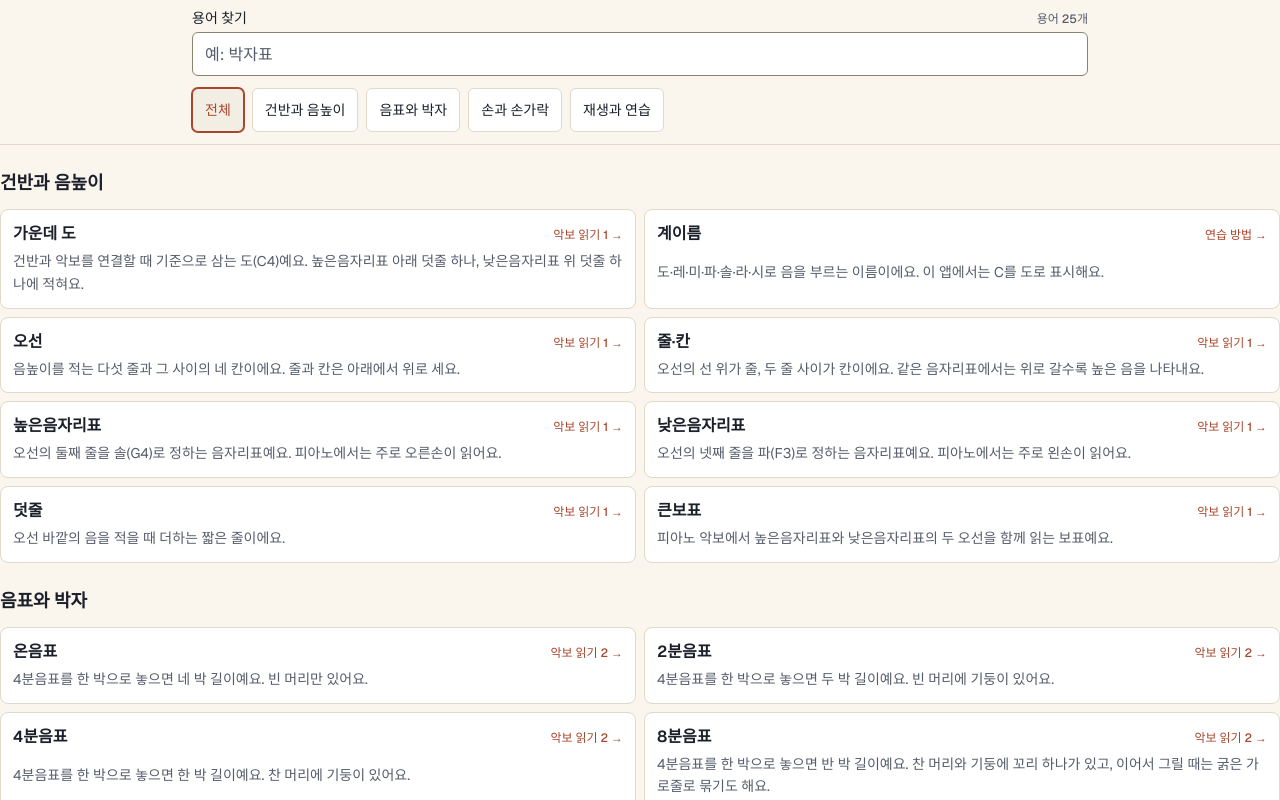
Test case: GlossaryExplorer › switches category chips and filters terms accordingly without saving to storage
Click the button "재생과 연습". click: click(617, 110)
box: [570,88,664,132]
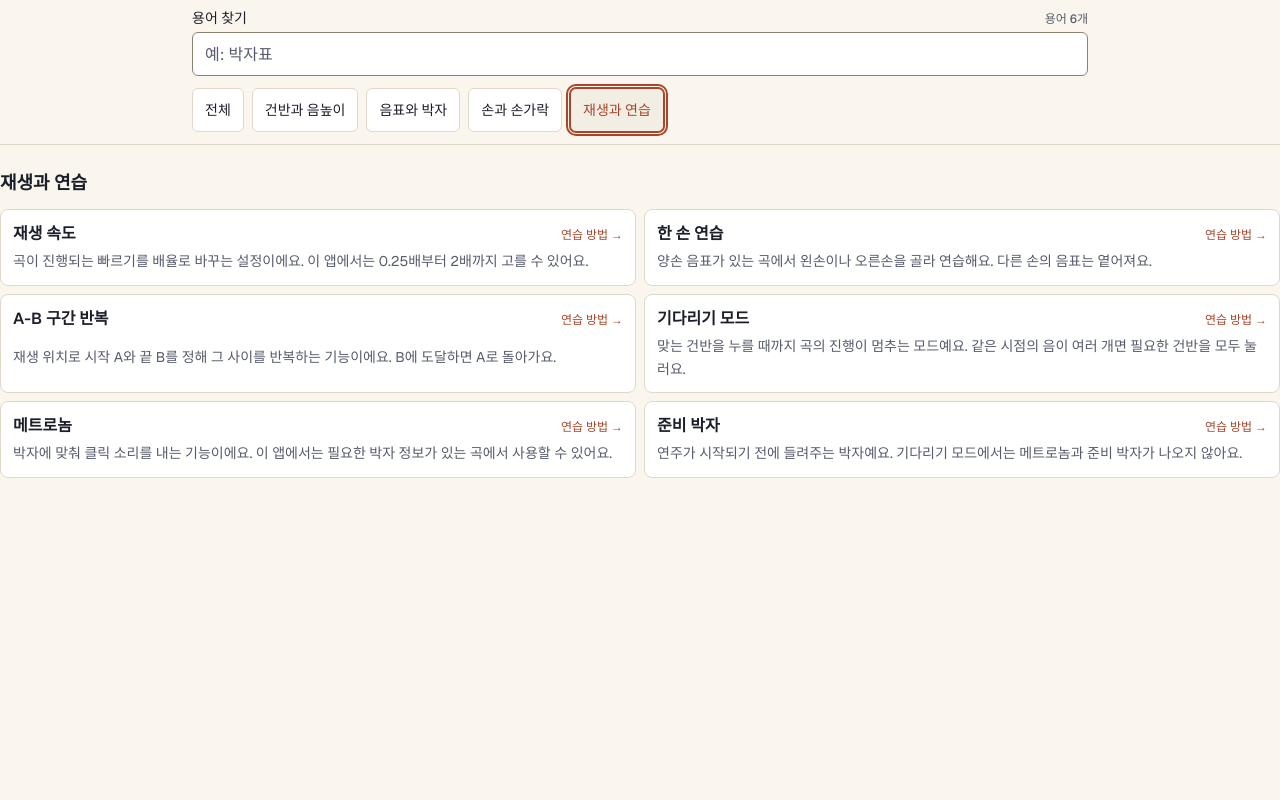
Expected: the number of headings is 1, [0,171,87,194]
Now the message reads "용어 6개", box [1045,11,1088,27]
